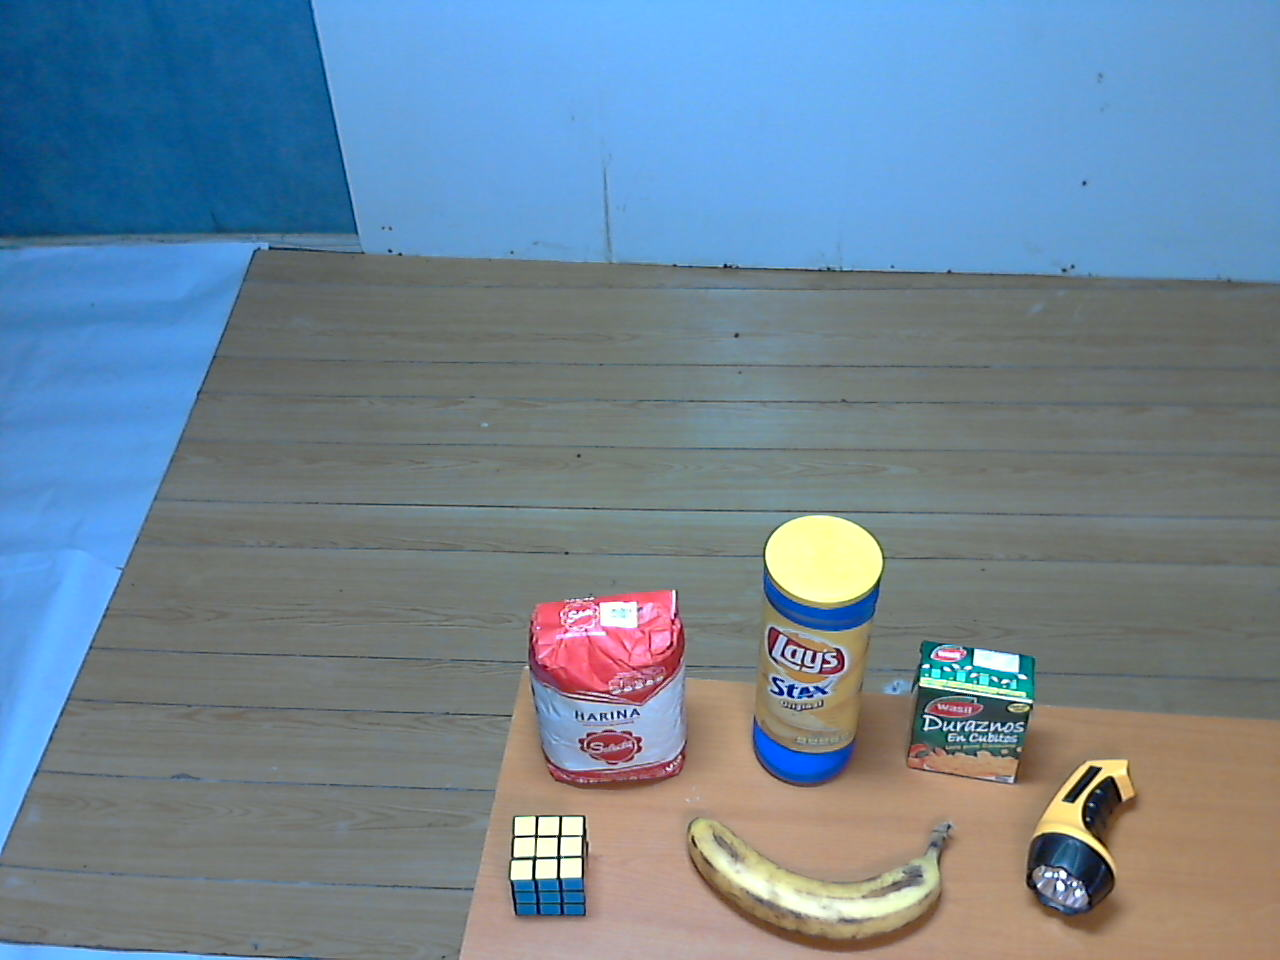cubix: (492, 810, 604, 929)
durazno: (896, 636, 1038, 789)
harina: (522, 586, 694, 805)
linterna: (1014, 754, 1163, 926)
papas: (744, 506, 892, 803)
platano: (673, 810, 966, 953)
